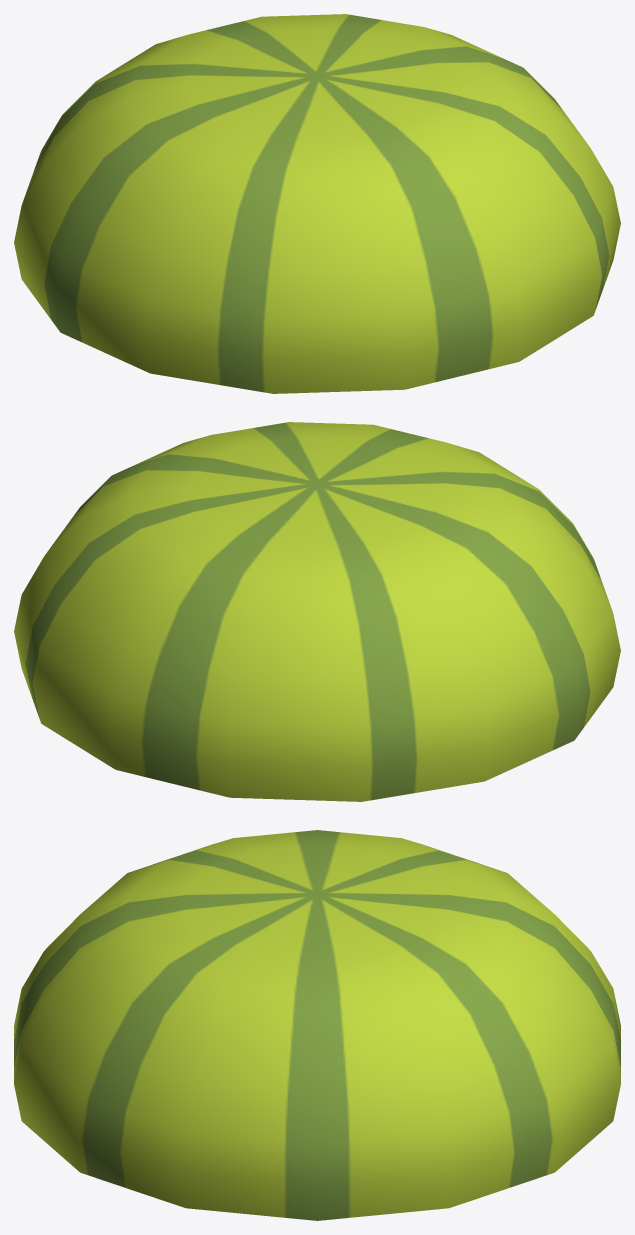
The model's file is CactusFlowerPiece.fbx.
3 views of the same model, one above another, from view 1: azimuth 30°, elevation 25°; view 2: azimuth 150°, elevation 25°; view 3: azimuth 270°, elevation 25° (orthographic). The views are drawn at different scales.
Visible parts, largest first — view 1: pSphere1; view 2: pSphere1; view 3: pSphere1.
Boxes of the visible parts, box(x1,y1,x2,y2) form: pSphere1: box(14, 14, 620, 393); pSphere1: box(14, 422, 620, 801); pSphere1: box(14, 830, 620, 1220).
Size of the model in its own units: 6.12 by 2.15 by 5.96.
